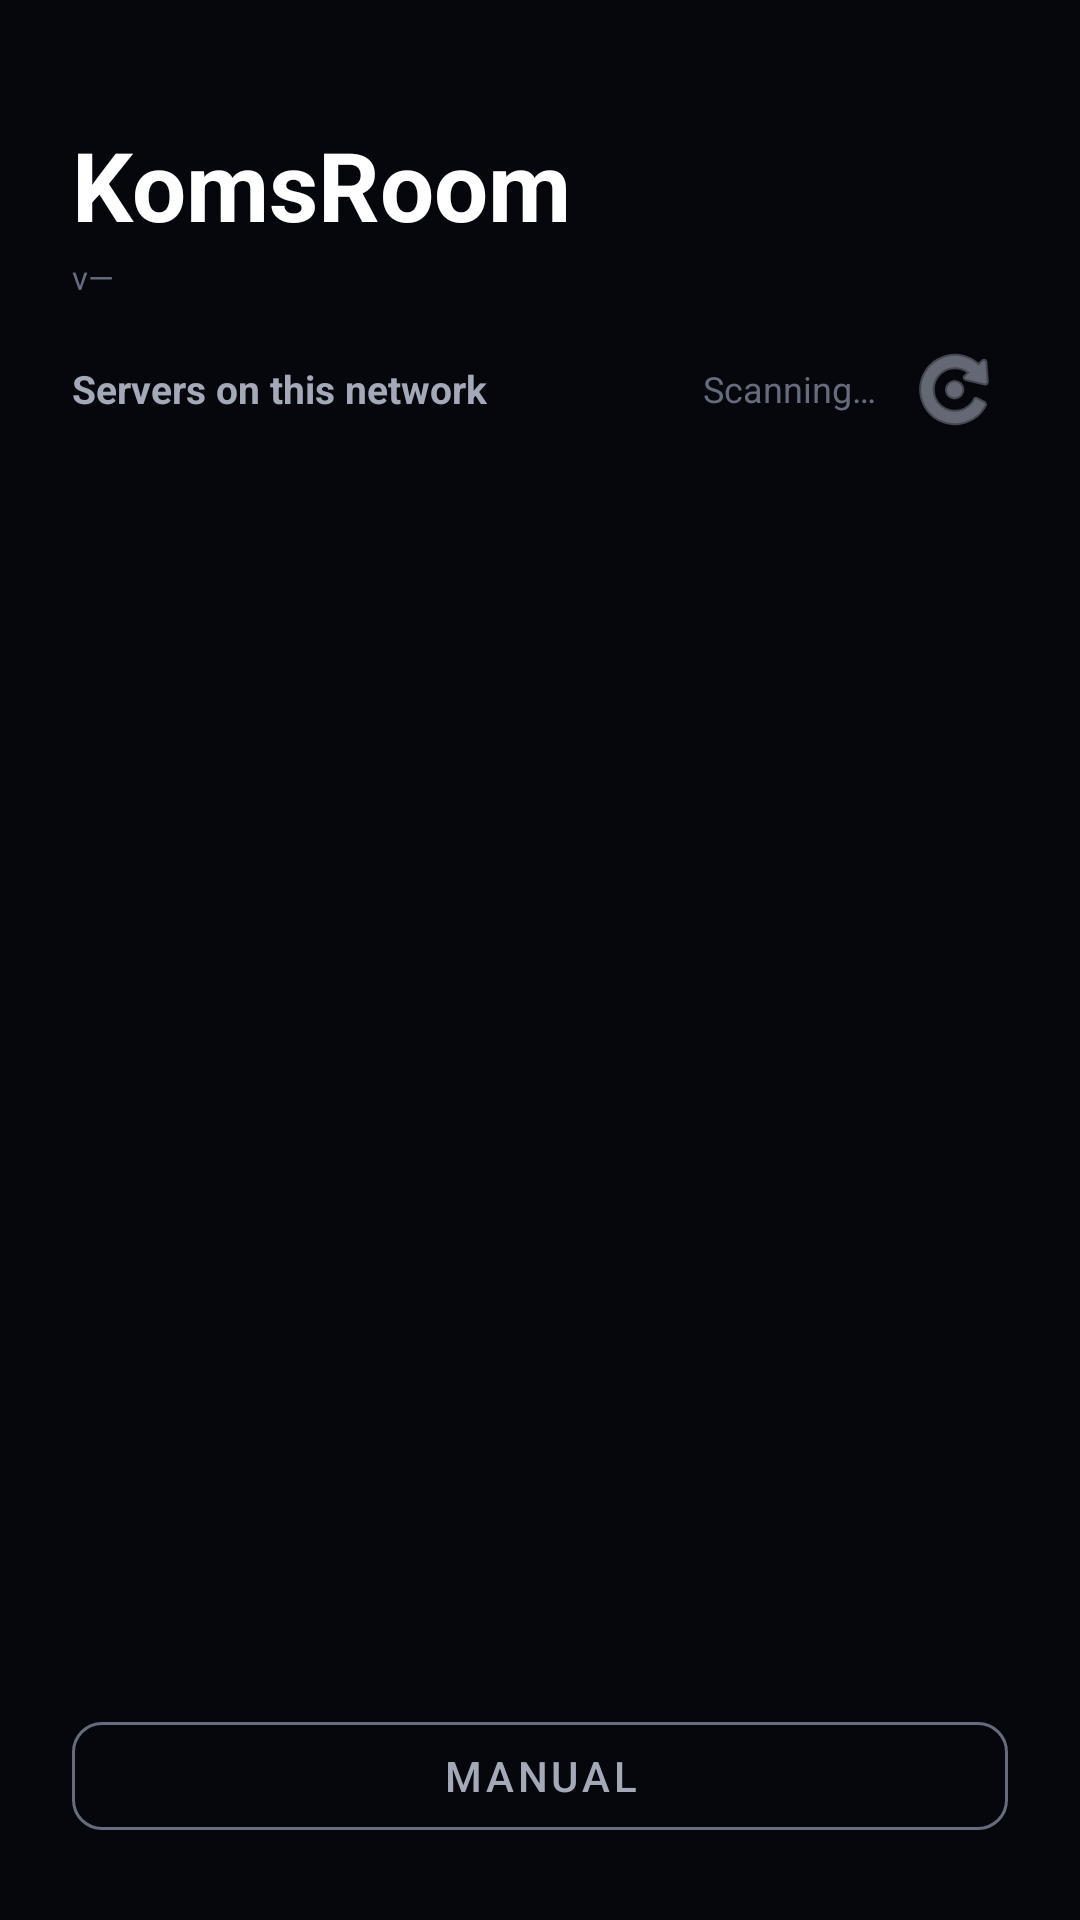

Named icons in this screenshot (1080x1920) and their bounding boxes, (x1, y1, x2, y2):
Refresh: (919, 354, 989, 425)
